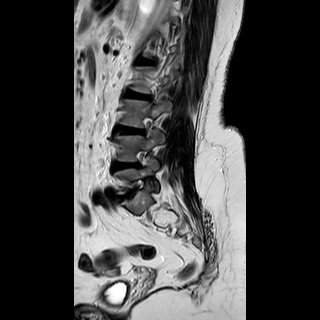LFS0: (135, 111, 156, 142), (130, 143, 152, 171)
